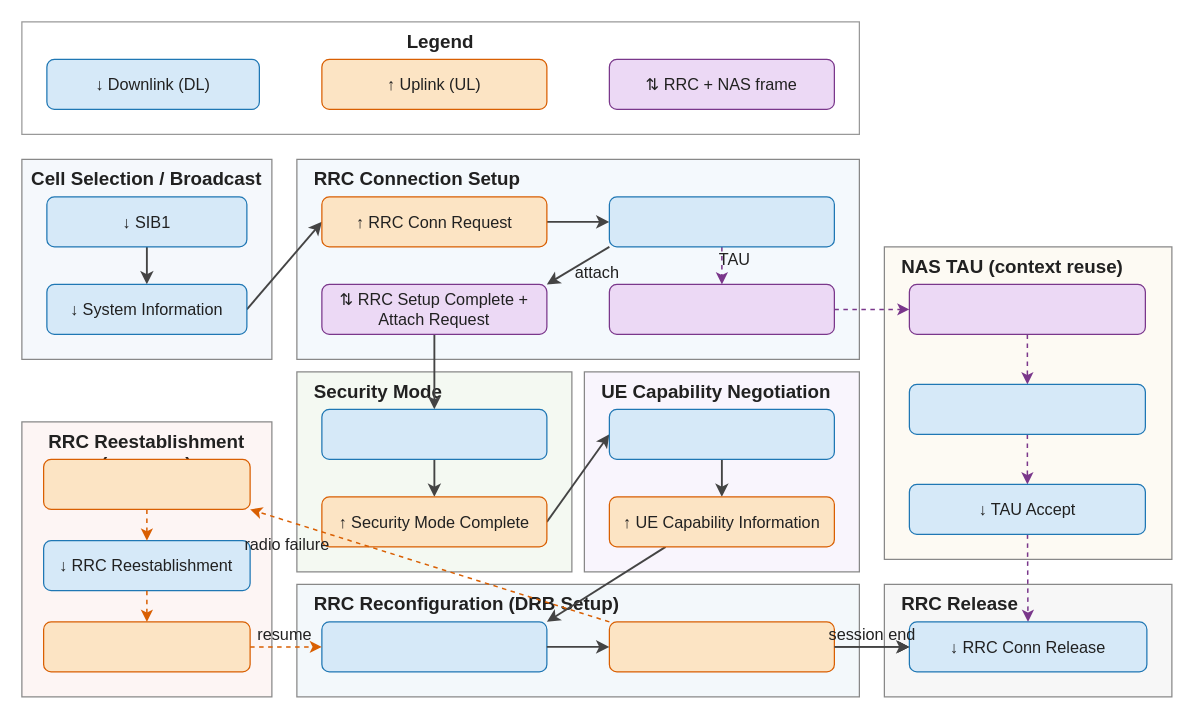
The diagram is 1194 pixels wide and 719 high, and some of its shapes have lost their labels. Here are the shapes that lost their labels. From the top down, the centre of each, then its label:
At (721,221): "↓ RRC Conn Setup".
At (721,308): "⇅ RRC Setup Complete + TAU Request".
At (1026,308): "⇅ DL Info Transfer + Ciphered NAS".
At (1026,408): "↓ Ciphered NAS".
At (434,433): "↓ Security Mode Command".
At (721,433): "↓ UE Capability Enquiry".
At (146,483): "↑ RRC Reest Request".
At (146,646): "↑ RRC Reest Complete".
At (434,646): "↓ RRC Reconfiguration".
At (721,646): "↑ RRC Reconfig Complete".
